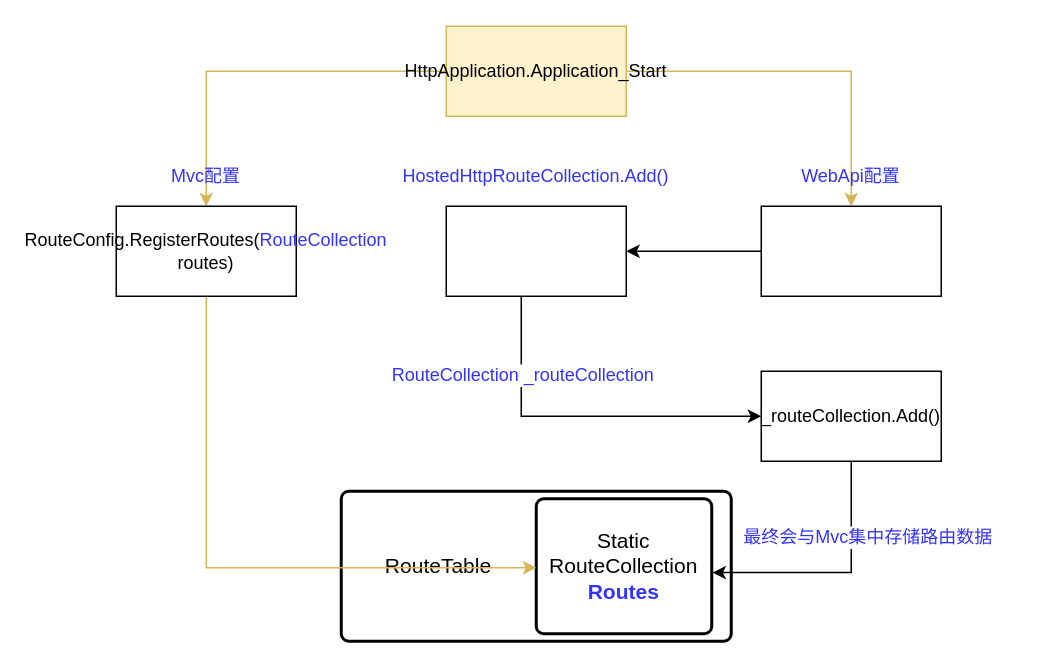
Some shapes in this 1044 by 669 pixel diagram are drawn without their labels. Each missing label, with the centre of its shape:
HttpRouteCollectionExtensions HttpRouteCollection: point 535,250
WebApiConfig.Register( HttpConfiguration config): point 850,250
